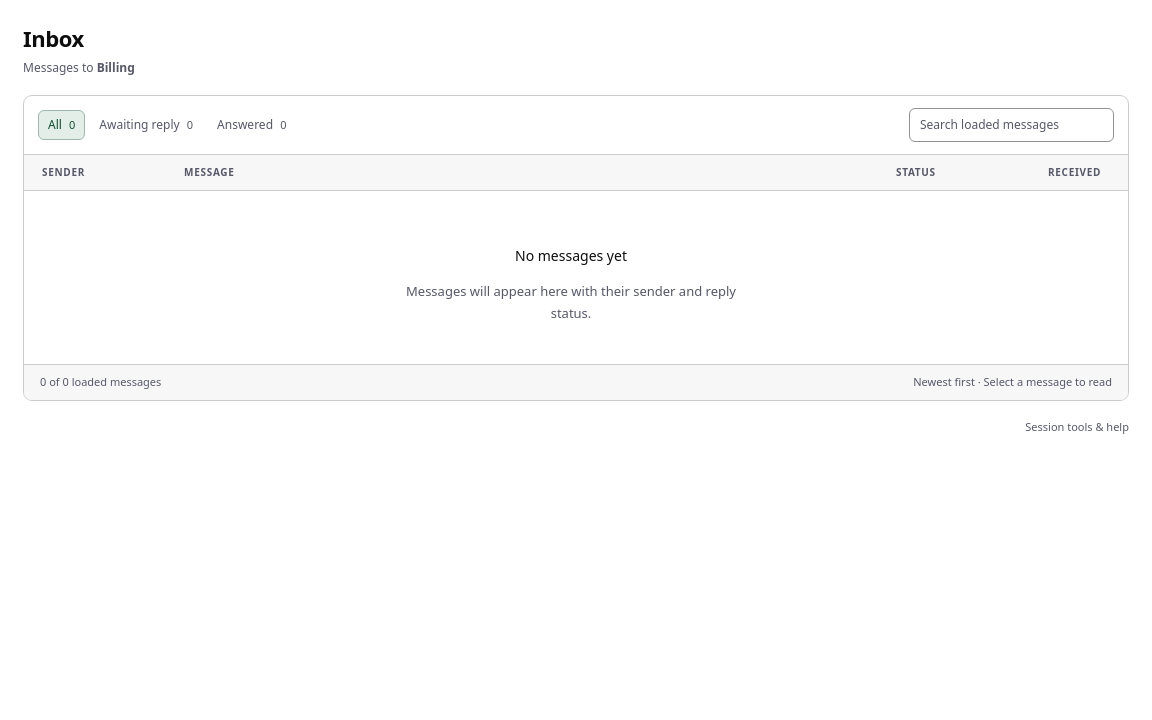
Test: session inbox › sends an introduction only on request and distinguishes sent from read
Check: the heading "No messages yet" is shown, box [515,246,627,265]
Click the button "Session tools & help": (1077, 427) [1025,419,1129,435]
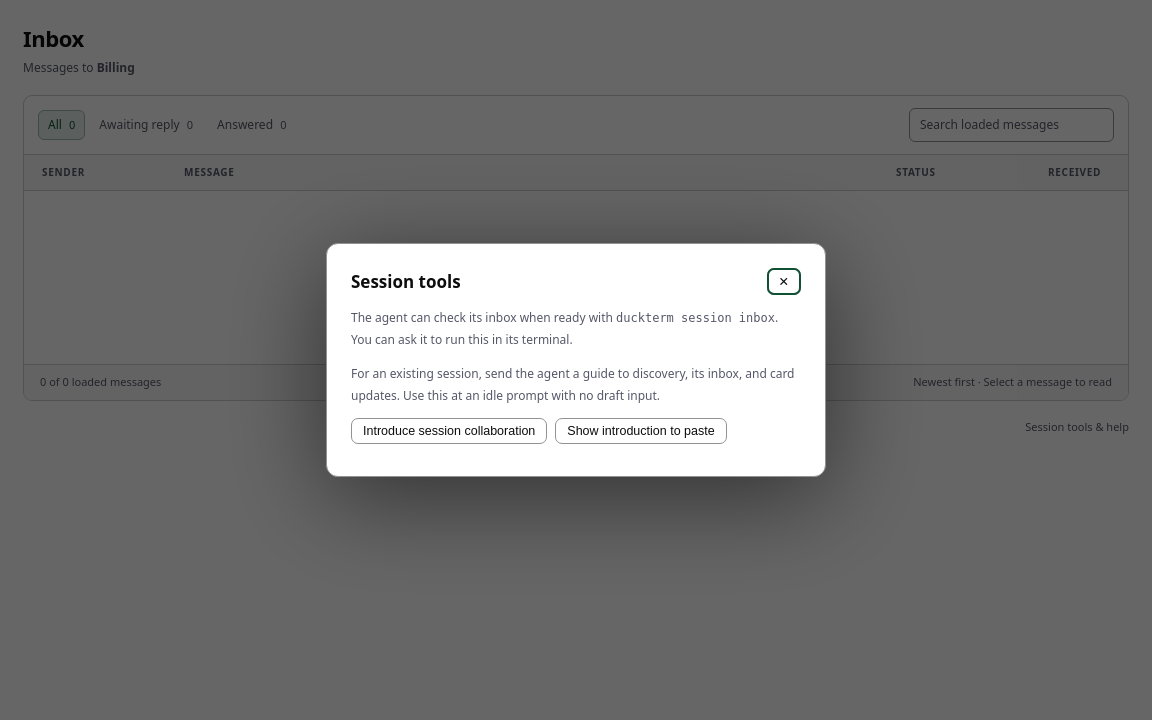
Click the button "Introduce session collaboration": (449, 431) [351,418,547,444]
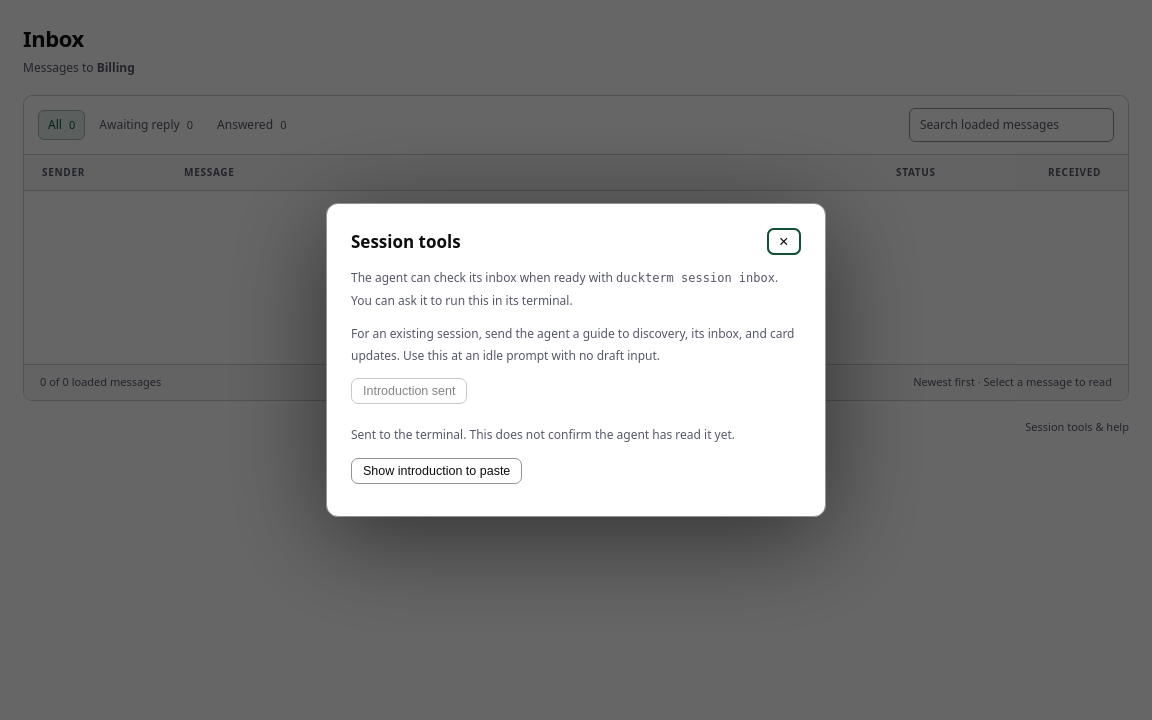
Check: the text "Sent to the terminal. This does not confirm the agent has read it yet." is shown, box [351,424,801,446]
Check: the button "Introduction sent" is disabled, box [351,378,467,404]
